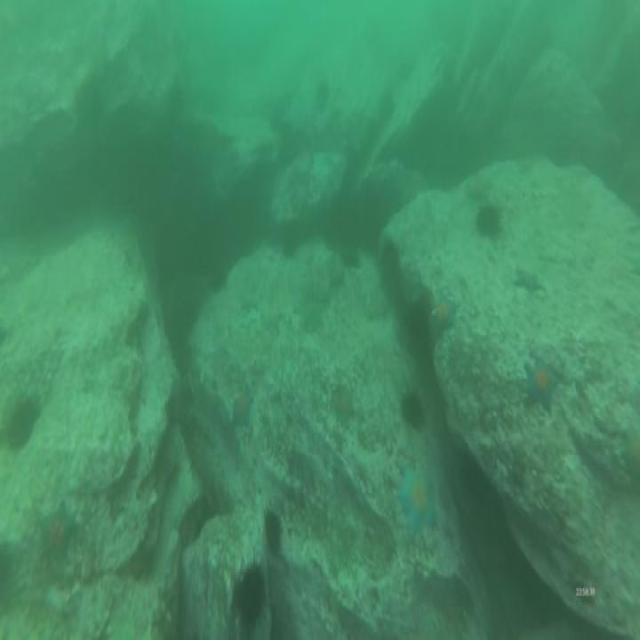echinus: (237, 570, 264, 620), (9, 401, 35, 444), (477, 204, 499, 238), (267, 510, 280, 547), (401, 394, 418, 421)
starfish: (396, 464, 436, 532), (39, 504, 75, 564), (524, 357, 558, 409), (432, 297, 457, 334), (333, 386, 354, 420), (516, 265, 540, 294), (231, 390, 252, 420)
